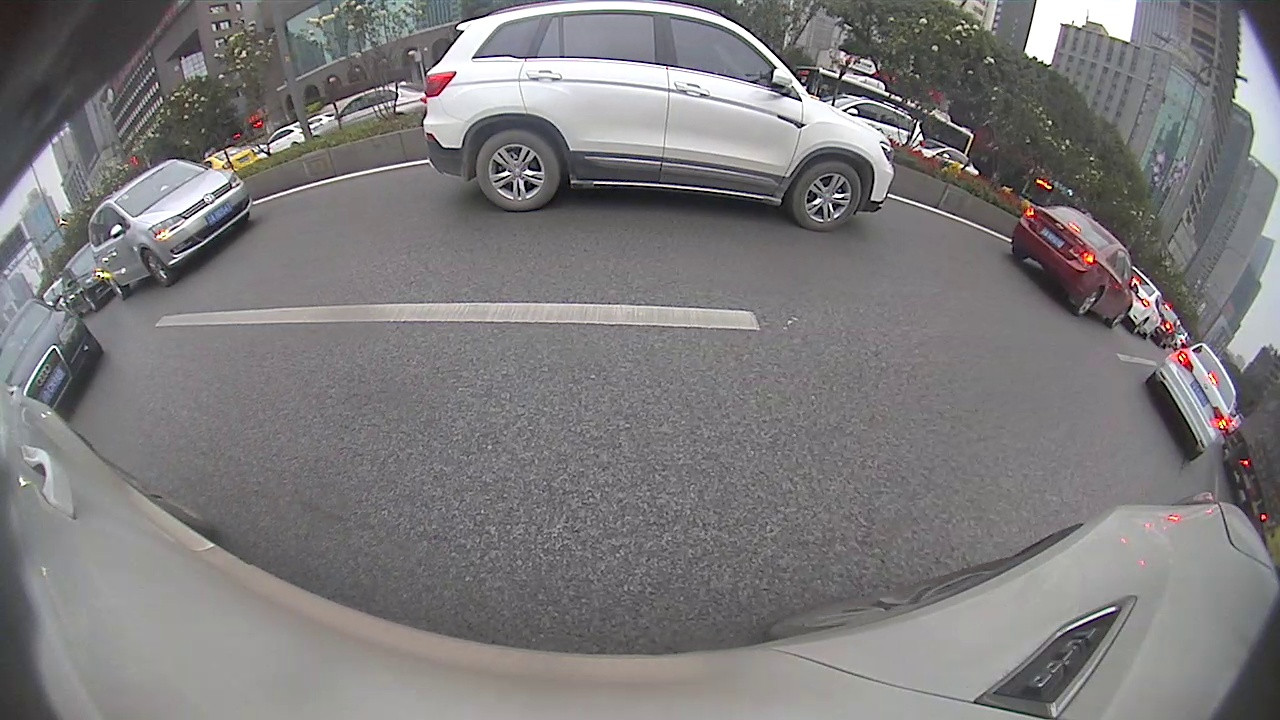car: (421, 3, 896, 233), (86, 158, 253, 301), (1011, 204, 1140, 328), (1, 297, 103, 413), (1146, 339, 1240, 461)
front: (795, 163, 863, 230), (140, 245, 173, 289)
rear: (476, 133, 558, 208), (1075, 285, 1102, 317), (103, 272, 125, 300)
